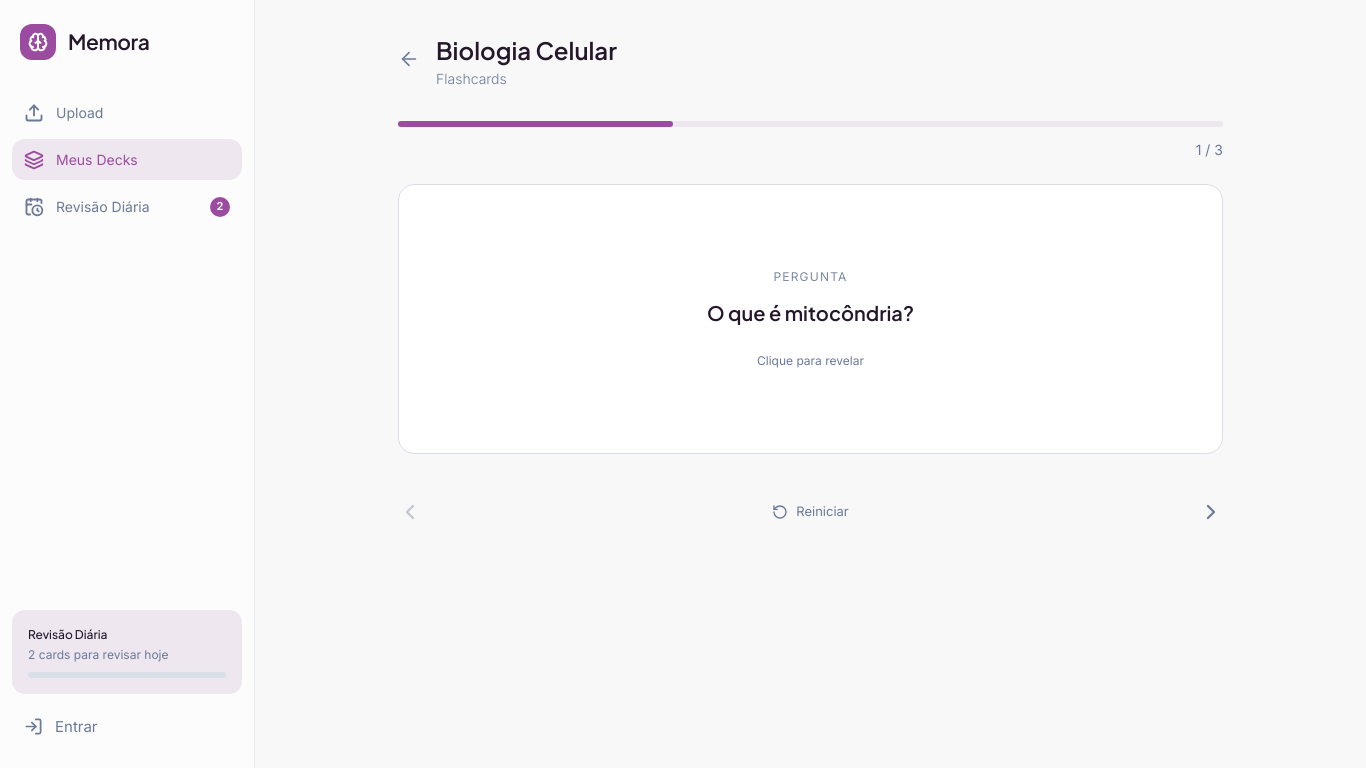
Test: FlashcardPage › 4 · Marcação de resposta › exibe feedback '✓ Marcado como acerto' ao clicar em Acertei
expect the heading "O que é mitocôndria?" is shown: met, box 707,298 -> 914,328
What coordinates should you click on to do the following:
click the text "Clique para revelar"
I would click on:
 (810, 361)
Its box is 757,352 -> 864,370.
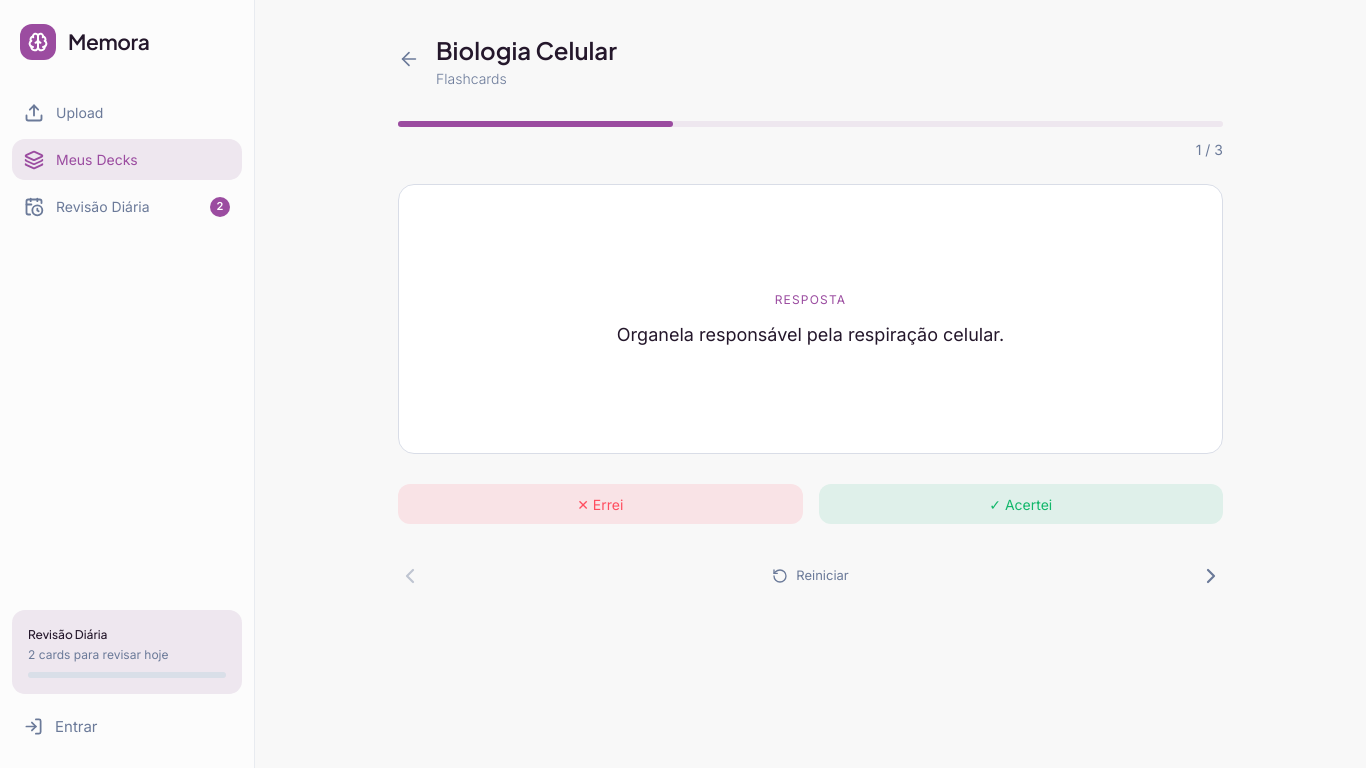
What coordinates should you click on to do the following:
click the button "✓ Acertei"
I would click on:
 (1021, 504)
Its box is 818,484 -> 1223,524.
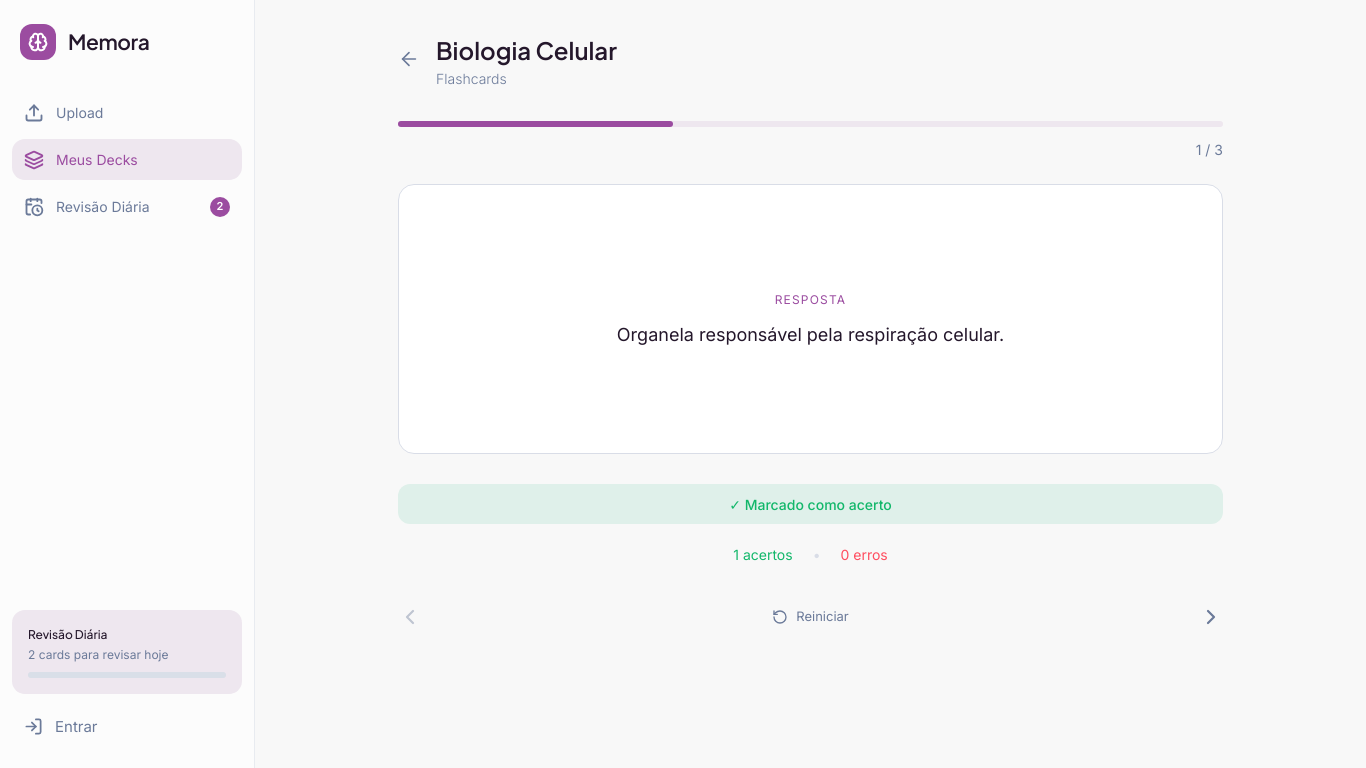
expect the text "✓ Marcado como acerto" is shown: met, box 398,484 -> 1223,524
